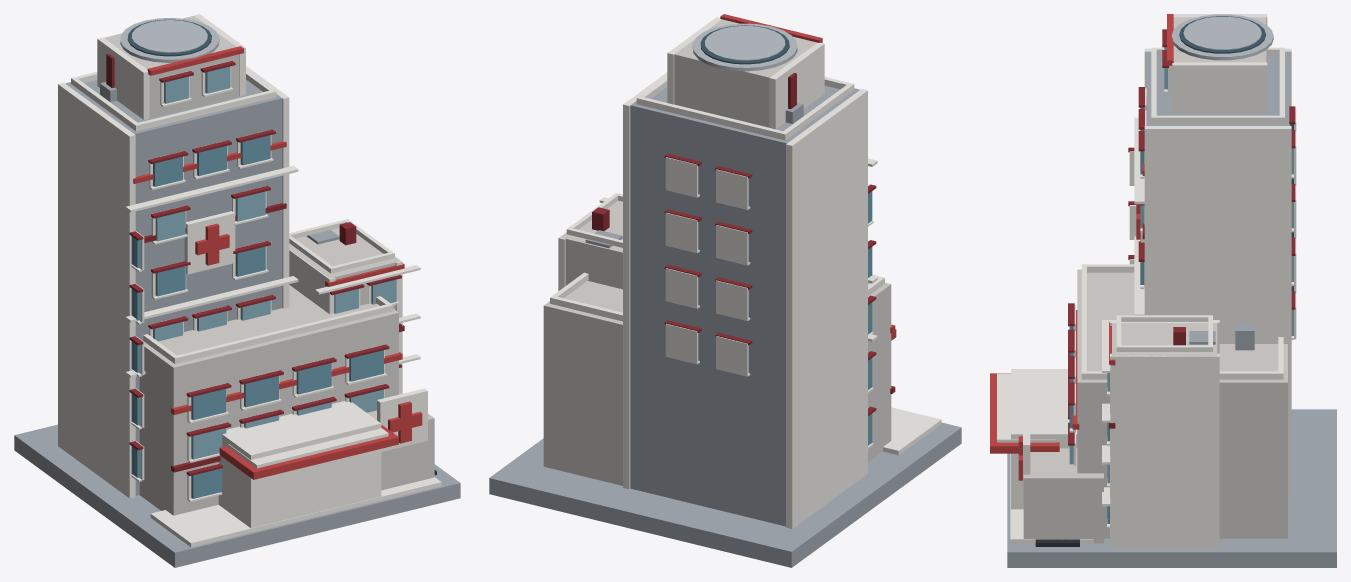
Rendered from hospital-building.glb.
3 renders of one model, left to right at view 1: azimuth 30°, elevation 25°; view 2: azimuth 150°, elevation 25°; view 3: azimuth 270°, elevation 25°, orthographic. The views are drawn at different scales.
Parts seen in each view (by area): view 1: hospital_building; view 2: hospital_building; view 3: hospital_building.
Part boxes in pixels (x1,y1,x2,y2): hospital_building: [14, 14, 460, 567]; hospital_building: [489, 14, 961, 567]; hospital_building: [990, 14, 1336, 567].
Bounding box in the file's own units: 11.64 × 16.42 × 11.69.
